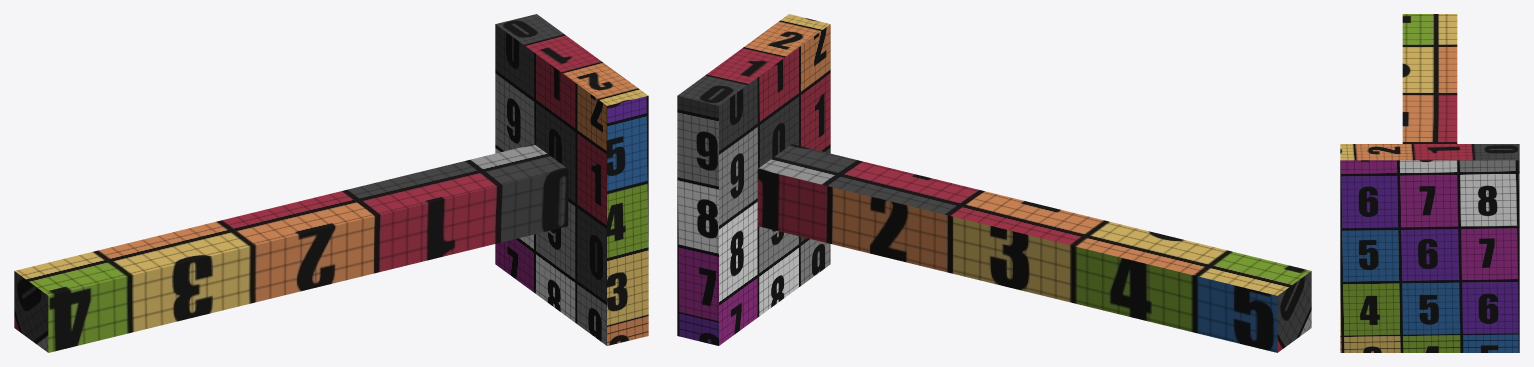
File: Pusher1.fbx
3 views of the same model, side by side, from view 1: azimuth 30°, elevation 25°; view 2: azimuth 150°, elevation 25°; view 3: azimuth 270°, elevation 25° (orthographic). The views are drawn at different scales.
Parts seen in each view (by area): view 1: pCube3; view 2: pCube3; view 3: pCube3.
Part boxes in pixels (box(x1,y1,x2,y2)): pCube3: box(14, 14, 648, 352); pCube3: box(677, 14, 1311, 352); pCube3: box(1340, 14, 1519, 352).
Bounding box in the file's own units: 9.81 × 4.01 × 3.38.
1 material, 1 textured.
